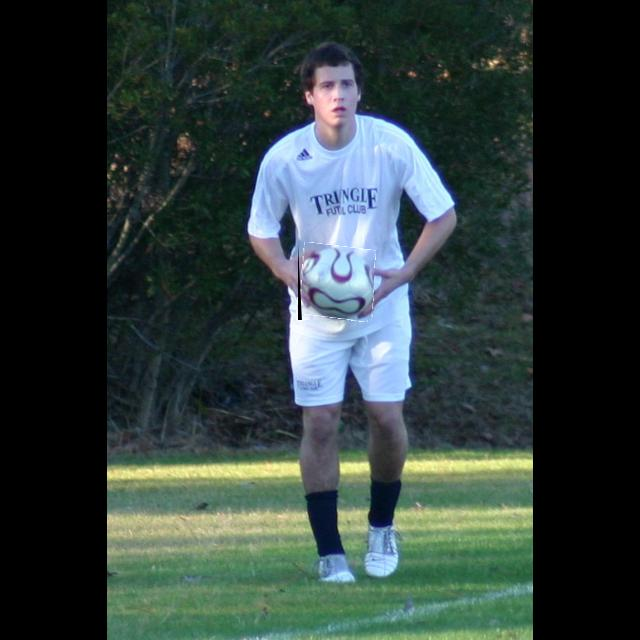Football: (298, 244, 374, 320)
